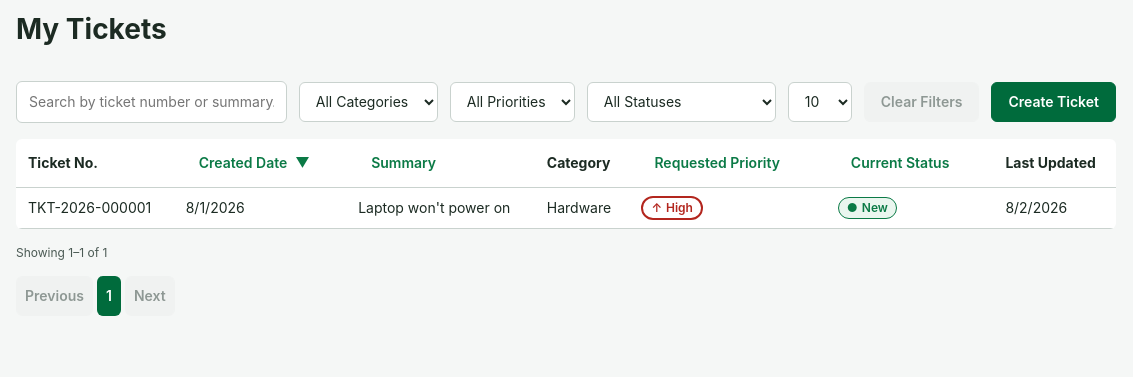
Test: MyTickets › shows the No-results state and keeps the toolbar visible when a filter matches nothing
Select "High" in the dropdown named "Requested Priority" at (512, 102), box [450,82,575,122]
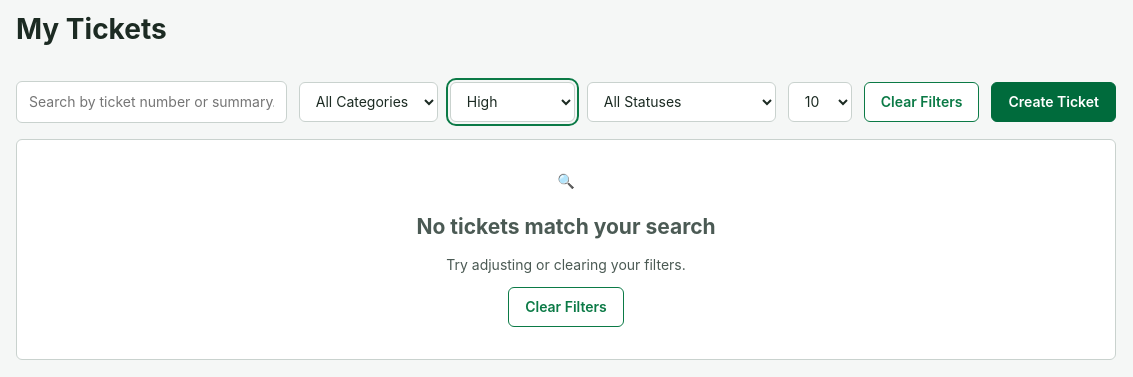
Expected: the heading "No tickets match your search" is shown, [416,214,716,239]
Expected: the 1st button "Clear Filters" is enabled, [864,82,979,122]
Expected: the button "Clear Filters" below "Try adjusting or clearing your filters." is enabled, [508,287,624,327]
